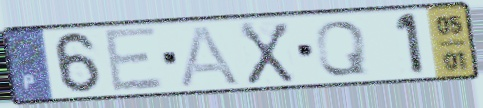1: (392, 10, 428, 78)
6: (51, 29, 105, 97)
A: (177, 23, 244, 89)
E: (100, 25, 167, 96)
Q: (312, 18, 371, 78)
X: (236, 20, 297, 87)
